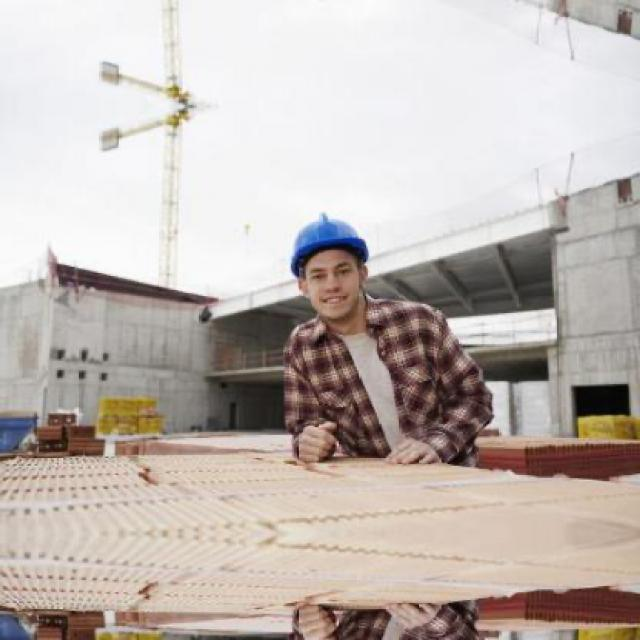helmet: (283, 199, 380, 328)
